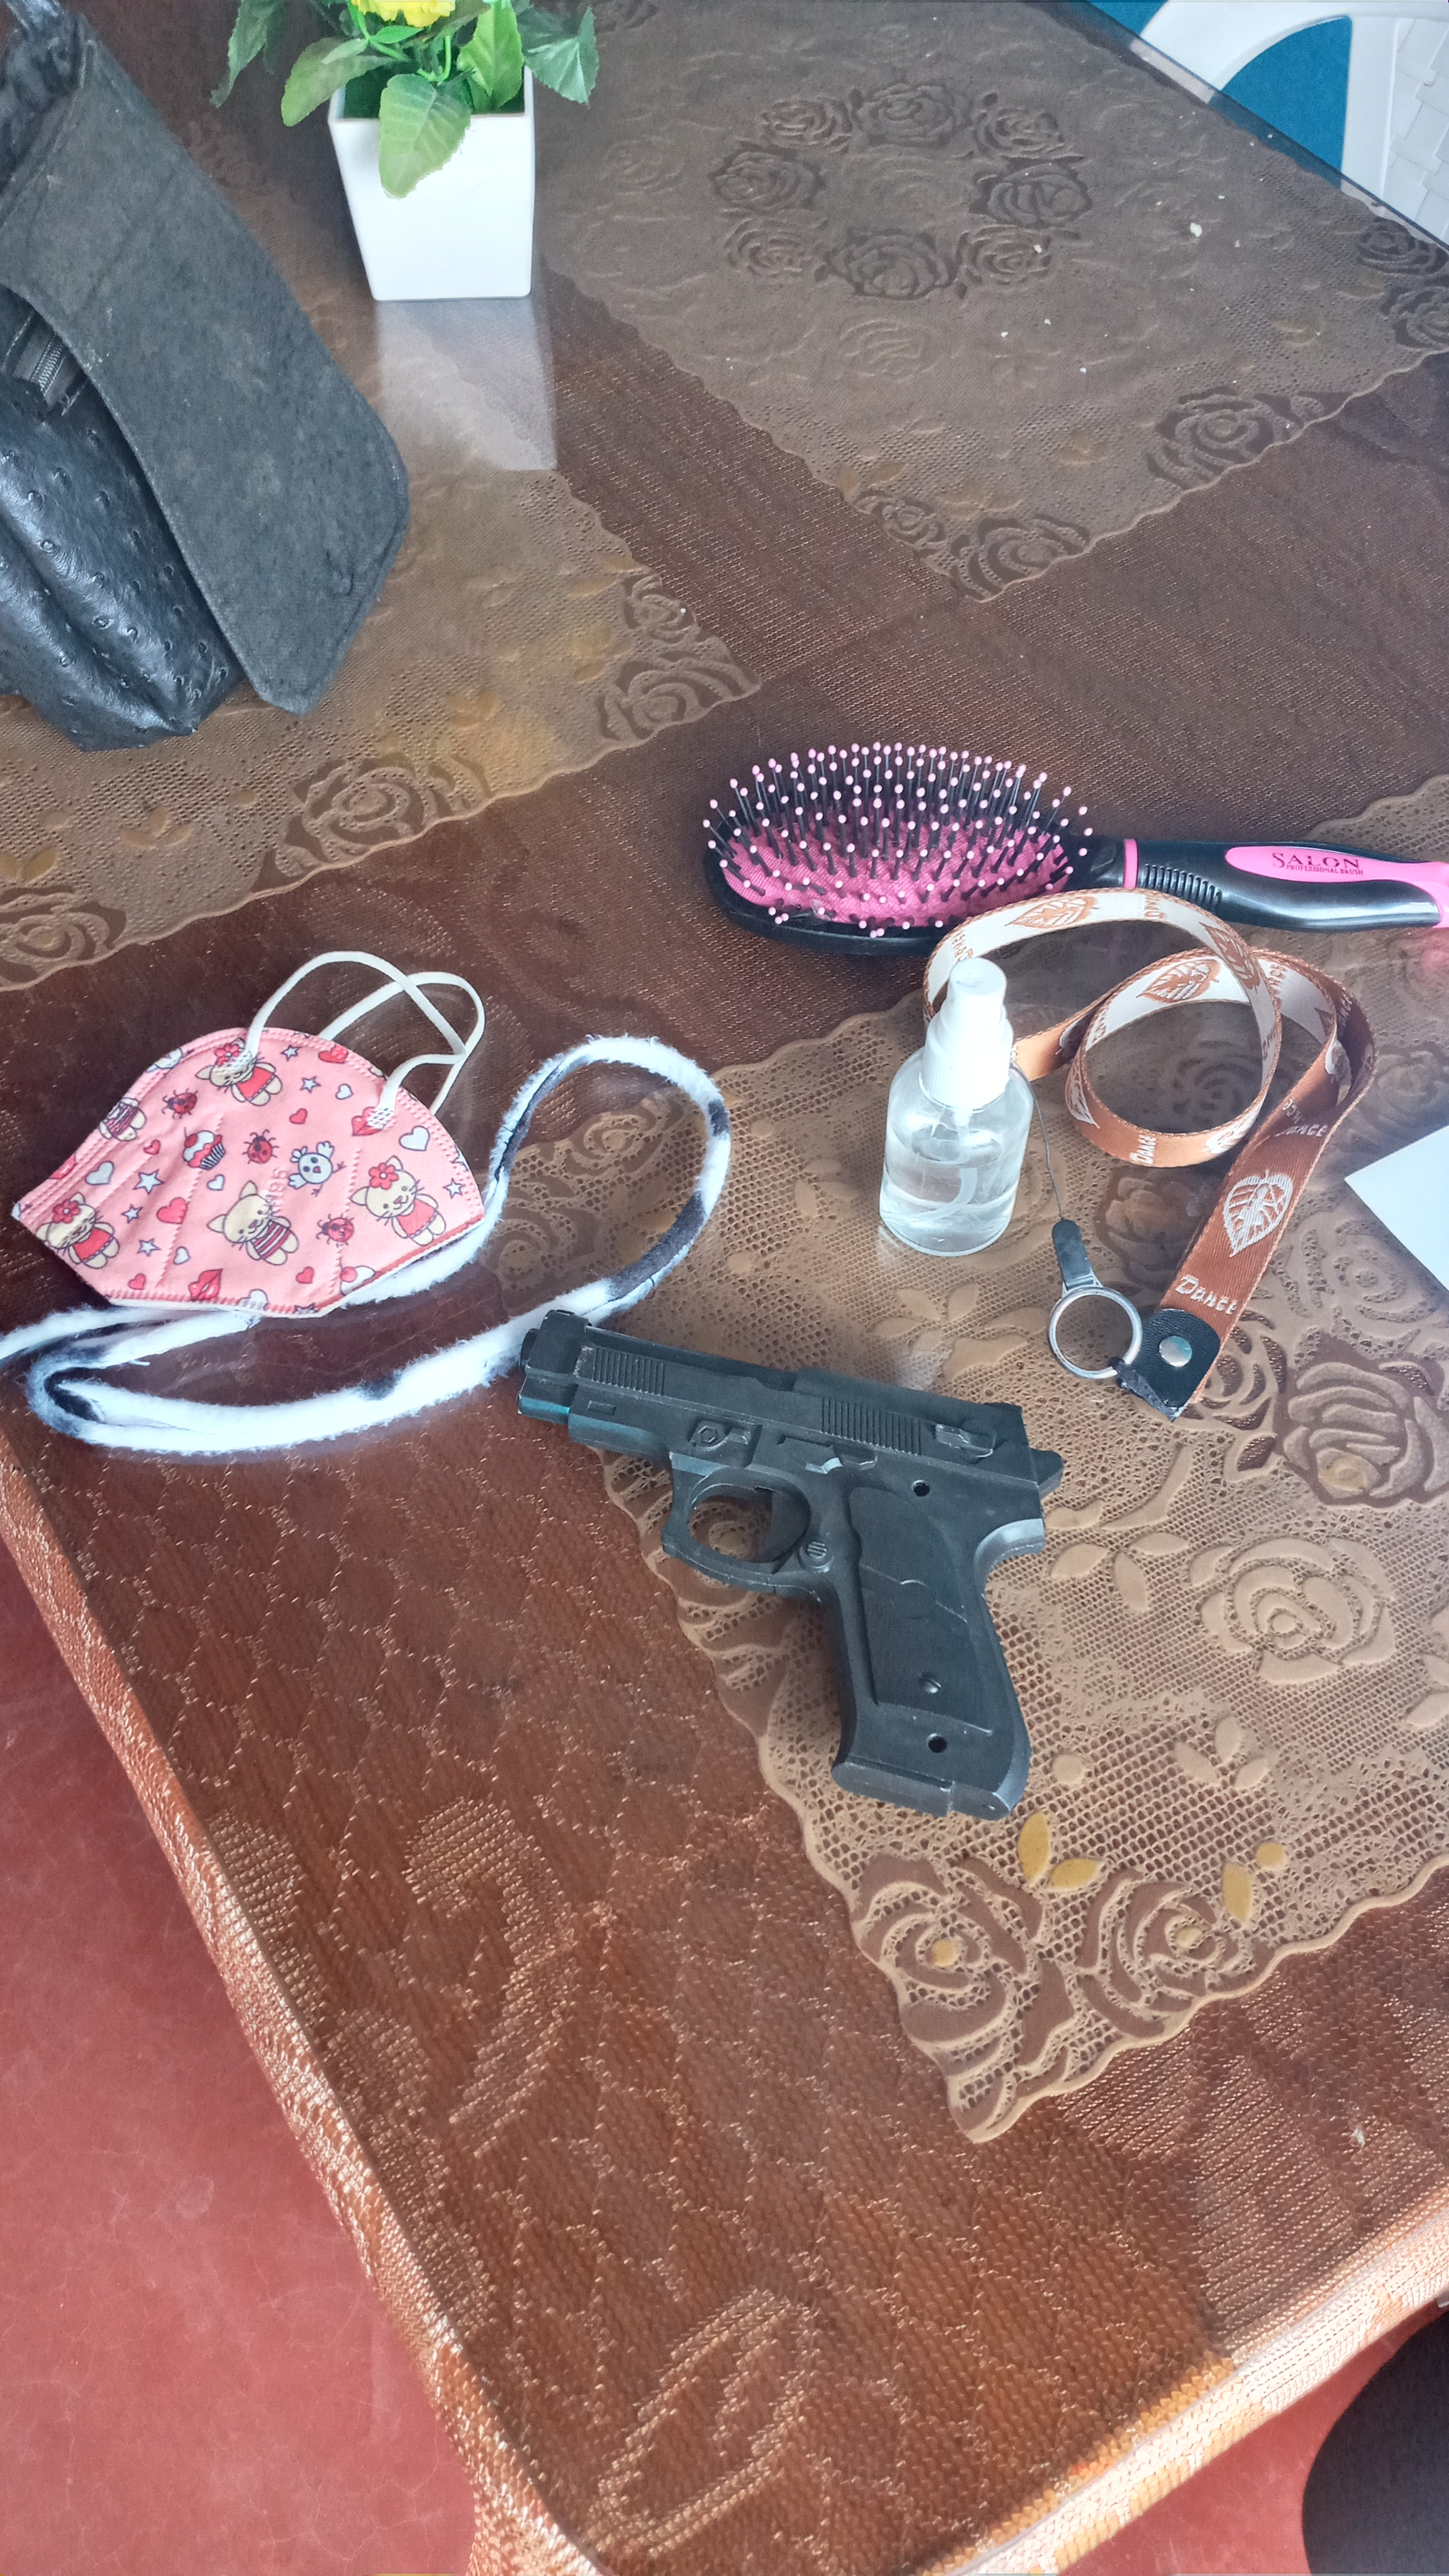Arma: (499, 1320, 1069, 1638)
